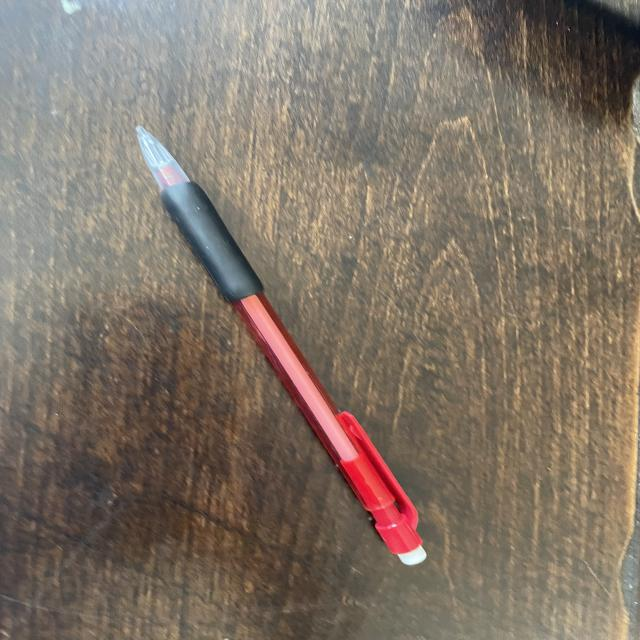mechanical-pencils: (114, 112, 456, 576)
